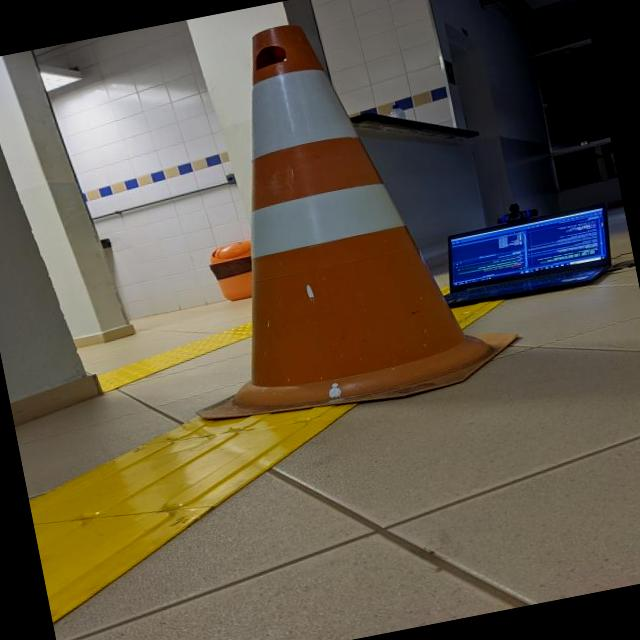Cone: (117, 0, 535, 443)
